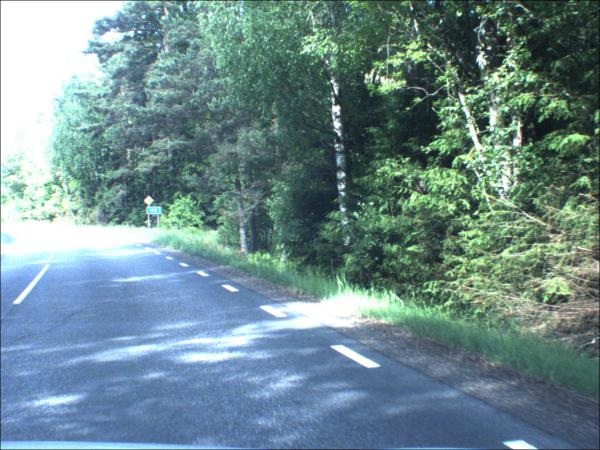PRIORITY_ROAD: (145, 197, 156, 207)
